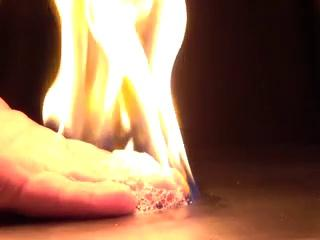Fire: (39, 1, 194, 208)
